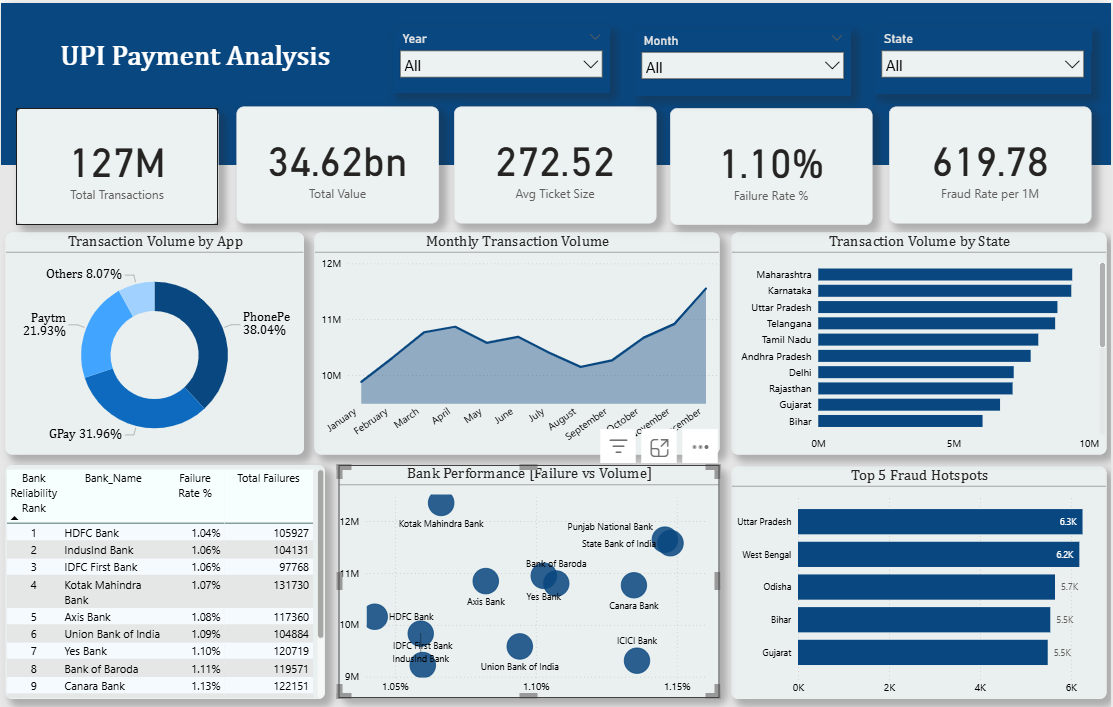

This screenshot's page, from the dashboard's own definition file:
{"tool":"powerbi","page":{"name":"Dashboard","canvas":[1480,950],"ordinal":0},"visuals":[{"type":"textbox","box":[0,0,1480,216],"z":0},{"type":"textbox","box":[58,44,410,66],"z":1000},{"type":"card","fields":{"Values":["Transactions.Total Transactions"]},"box":[20,140,270,155],"z":2000},{"type":"card","fields":{"Values":["Transactions.Total Value"]},"box":[314,138,270,156],"z":3000},{"type":"card","fields":{"Values":["Transactions.Avg Ticket Size"]},"box":[604,138,270,156],"z":4000},{"type":"card","fields":{"Values":["Transactions.Failure Rate %"]},"box":[892,140,270,156],"z":5000},{"type":"card","fields":{"Values":["Transactions.Fraud Rate per 1M"]},"box":[1184,138,270,156],"z":6000},{"type":"slicer","fields":{"Values":["Calendar.Year"]},"box":[522,32,290,88],"z":7000},{"type":"slicer","fields":{"Values":["Calendar.Date.Variation.Date Hierarchy.Month"]},"box":[844,34,290,90],"z":8000},{"type":"slicer","fields":{"Values":["Dim_Region.State"]},"box":[1164,32,290,90],"z":9000},{"type":"donutChart","title":"Transaction Volume by App","fields":{"Category":["Dim_App.App_Name"],"Y":["Transactions.Total Transactions"]},"box":[6,306,398,296],"z":10000},{"type":"scatterChart","title":"Bank Performance [Failure vs Volume] ","fields":{"X":["Transactions.Failure Rate %"],"Y":["Transactions.Total Transactions"],"Size":["Transactions.Avg Ticket Size"],"Category":["Dim_Bank.Bank_Name"]},"box":[450,616,508,310],"z":11000},{"type":"tableEx","fields":{"Values":["Transactions.Bank Reliability Rank","Dim_Bank.Bank_Name","Transactions.Failure Rate %","Transactions.Total Failures"]},"box":[6,616,426,312],"z":12000},{"type":"barChart","title":"Top 5 Fraud Hotspots","fields":{"Category":["Dim_Region.State"],"Y":["Transactions.Total Fraud"]},"box":[974,618,500,310],"z":13000},{"type":"clusteredBarChart","title":" Transaction Volume by State","fields":{"Y":["Transactions.Total Transactions"],"Category":["Dim_Region.State"]},"box":[974,306,500,296],"z":14000},{"type":"areaChart","title":"Monthly Transaction Volume ","fields":{"Category":["Calendar.Date.Variation.Date Hierarchy.Month"],"Y":["Transactions.Total Transactions"]},"box":[418,306,540,296],"z":15000}]}

Visuals, with their boxes in screenshot pixels (x1, y1, x2, y2), scaled from the page's 1480x950 canvas onto the 1113x707 screenshot:
textbox: (x1=0, y1=0, x2=1112, y2=161)
textbox: (x1=44, y1=33, x2=352, y2=82)
card - Transactions.Total Transactions: (x1=15, y1=104, x2=218, y2=220)
card - Transactions.Total Value: (x1=236, y1=103, x2=439, y2=219)
card - Transactions.Avg Ticket Size: (x1=454, y1=103, x2=657, y2=219)
card - Transactions.Failure Rate %: (x1=671, y1=104, x2=874, y2=220)
card - Transactions.Fraud Rate per 1M: (x1=890, y1=103, x2=1093, y2=219)
slicer - Calendar.Year: (x1=393, y1=24, x2=611, y2=89)
slicer - Calendar.Date.Variation.Date Hierarchy.Month: (x1=635, y1=25, x2=853, y2=92)
slicer - Dim_Region.State: (x1=875, y1=24, x2=1093, y2=91)
"Transaction Volume by App" donutChart: (x1=5, y1=228, x2=304, y2=448)
"Bank Performance [Failure vs Volume] " scatterChart: (x1=338, y1=458, x2=720, y2=689)
tableEx - Transactions.Bank Reliability Rank x Dim_Bank.Bank_Name: (x1=5, y1=458, x2=325, y2=691)
"Top 5 Fraud Hotspots" barChart: (x1=732, y1=460, x2=1108, y2=691)
" Transaction Volume by State" clusteredBarChart: (x1=732, y1=228, x2=1108, y2=448)
"Monthly Transaction Volume " areaChart: (x1=314, y1=228, x2=720, y2=448)
